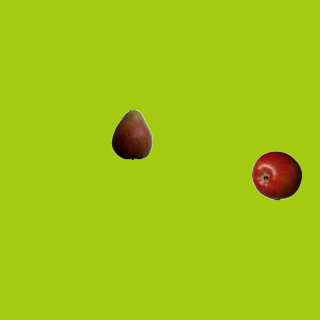Apple Braeburn: (251, 150, 301, 200)
Pear Forelle: (106, 109, 156, 159)
